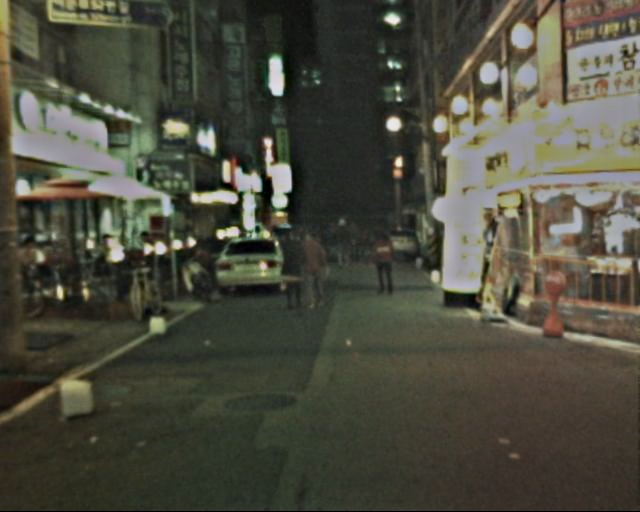person: (299, 225, 334, 315), (277, 225, 311, 315), (368, 225, 400, 301), (332, 217, 353, 270), (352, 227, 367, 264)
